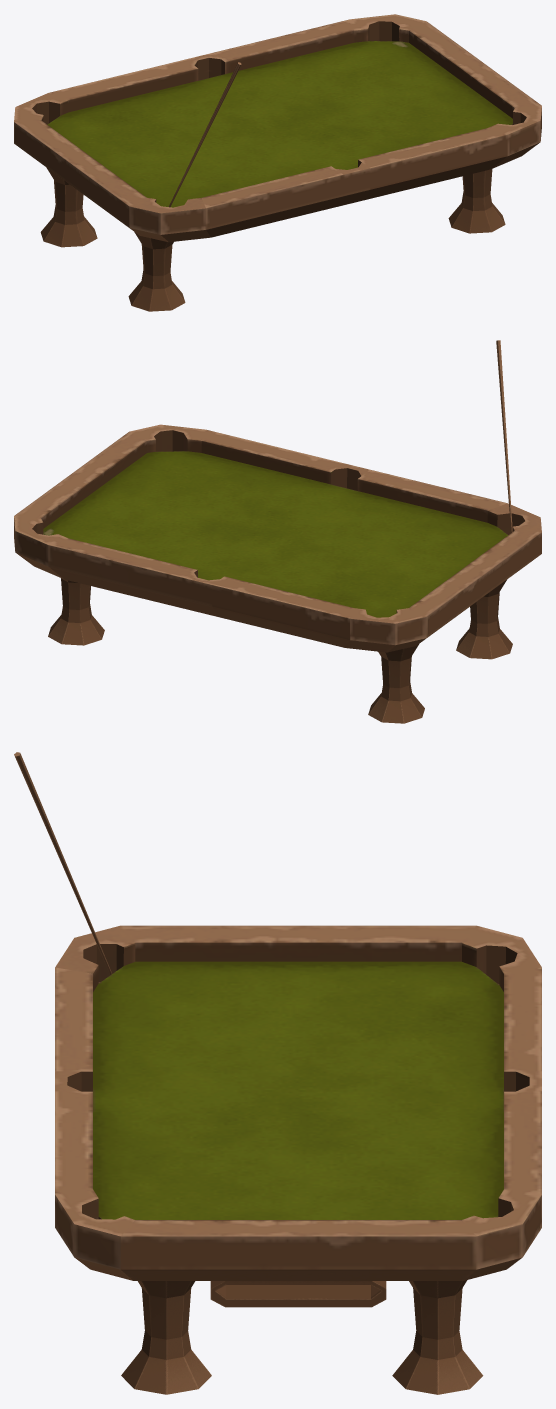
The model's file is PROP_042_PoolTable.fbx.
3 views of the same model, one above another, from view 1: azimuth 30°, elevation 25°; view 2: azimuth 150°, elevation 25°; view 3: azimuth 270°, elevation 25° (orthographic). The views are drawn at different scales.
Visible parts, largest first — view 1: Taula; view 2: Taula; view 3: Taula.
Boxes of the visible parts, x1,y1,x2,y2 form: Taula: (14,14,541,311); Taula: (14,340,541,723); Taula: (14,752,541,1394).
Size of the model in its own units: 3.4 by 2.08 by 2.44.
1 material, 1 textured.
